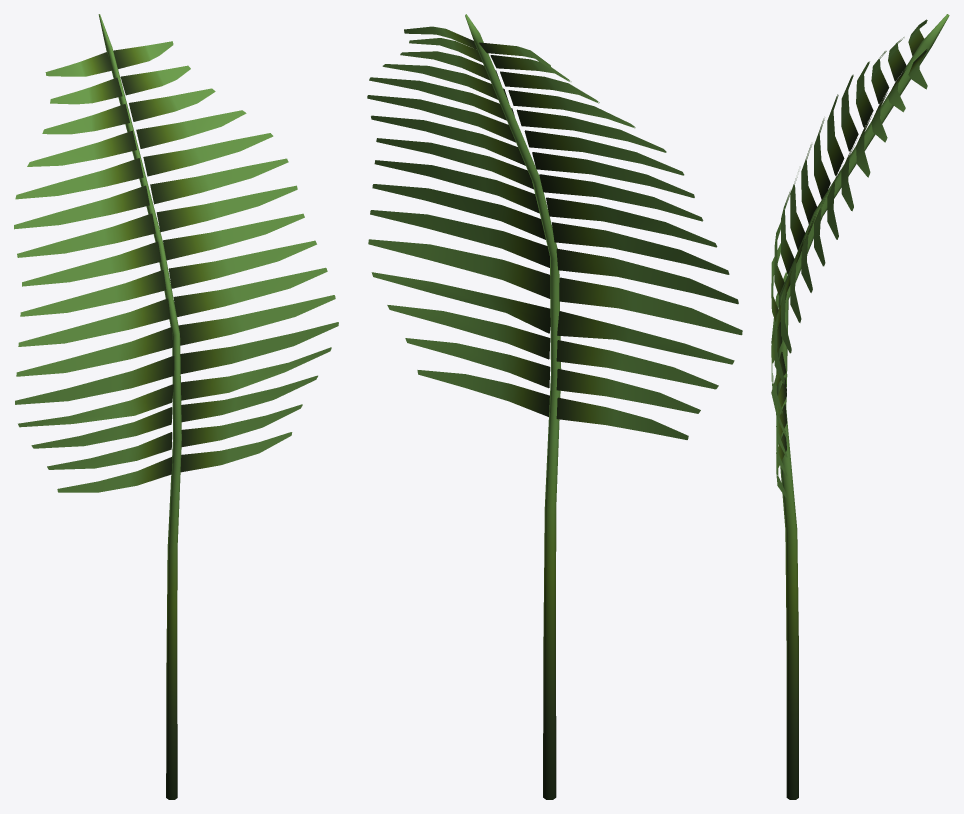
The model's file is planta relleno 2.fbx.
The picture shows the model from 3 angles, left to right: view 1: azimuth 30°, elevation 25°; view 2: azimuth 150°, elevation 25°; view 3: azimuth 270°, elevation 25°; orthographic projection. The views are drawn at different scales.
Parts seen in each view (by area): view 1: hojas genericas 1.004; view 2: hojas genericas 1.004; view 3: hojas genericas 1.004.
Part boxes in pixels (<box>): hojas genericas 1.004: <box>14,14,338,799</box>; hojas genericas 1.004: <box>367,14,742,799</box>; hojas genericas 1.004: <box>771,14,949,799</box>.
Size of the model in its own units: 676 by 1461 by 301.
